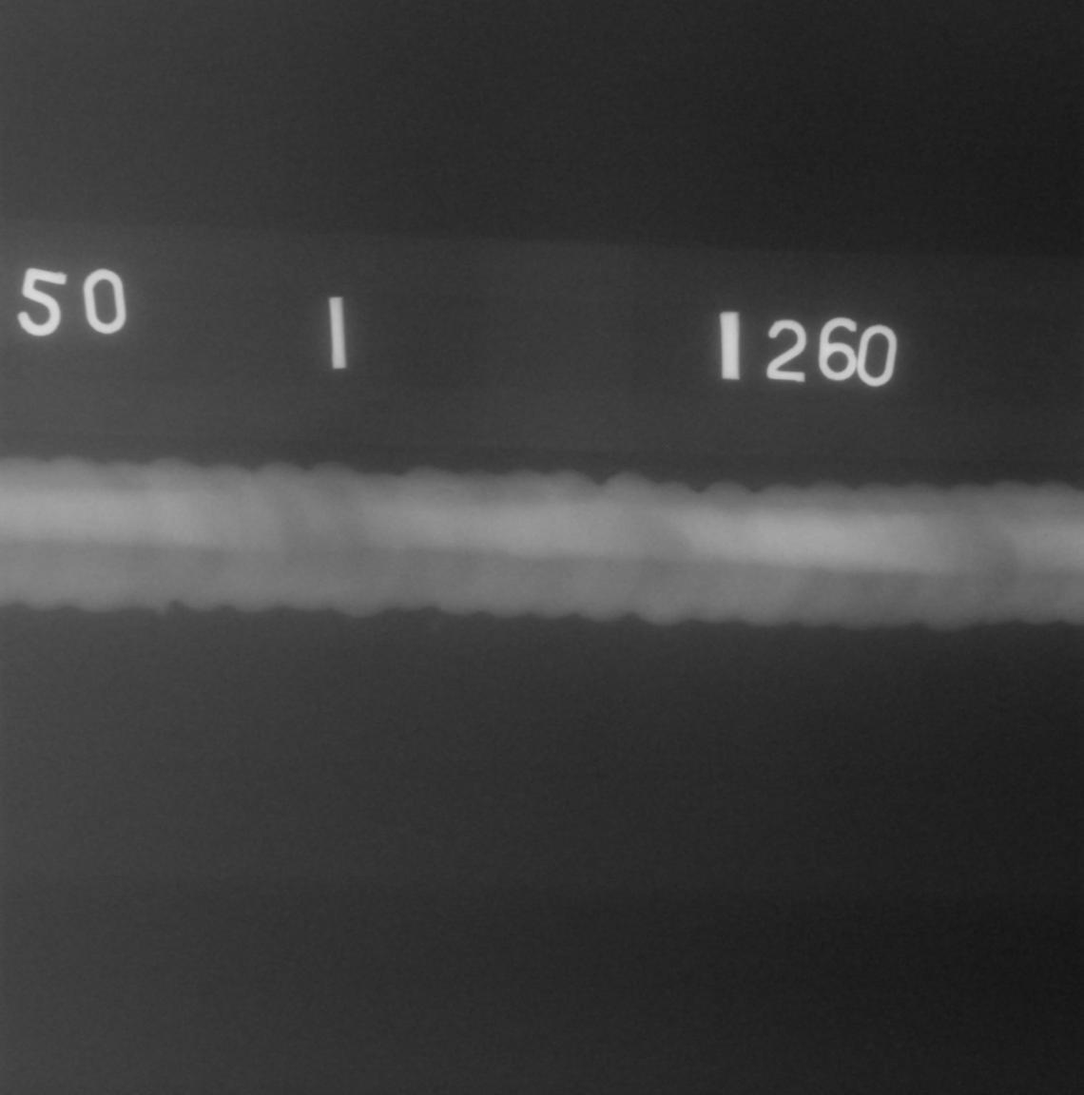Pore/Porosity: (358, 512, 364, 517), (1044, 533, 1048, 537)
